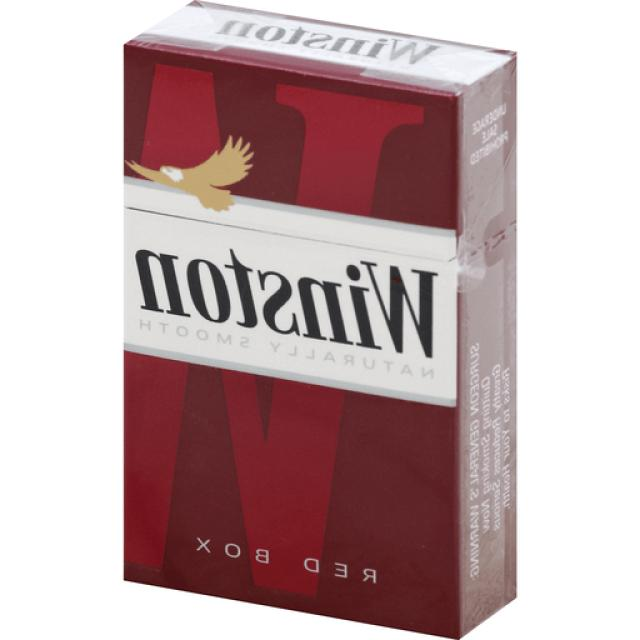winston: (117, 1, 516, 639)
